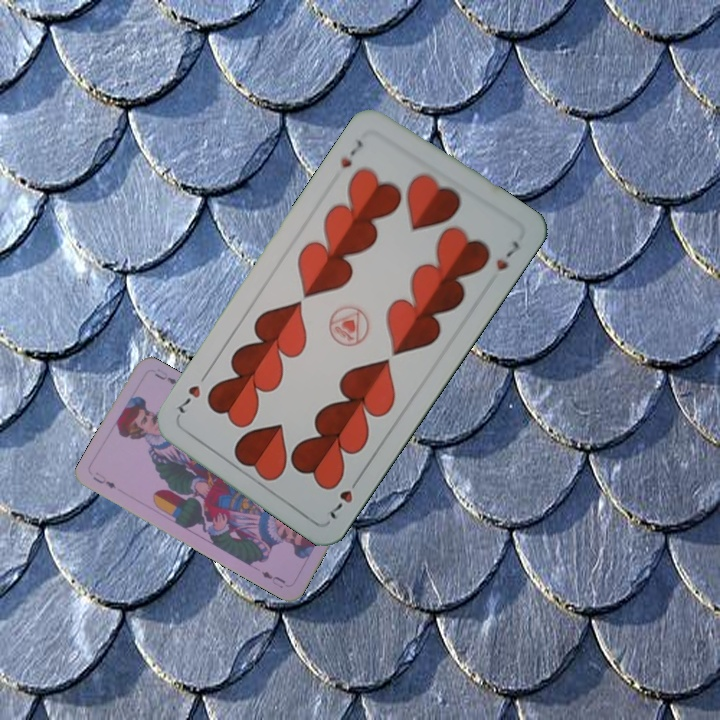EU: (89, 468, 119, 491)
H7: (326, 471, 363, 522), (336, 134, 367, 171)
